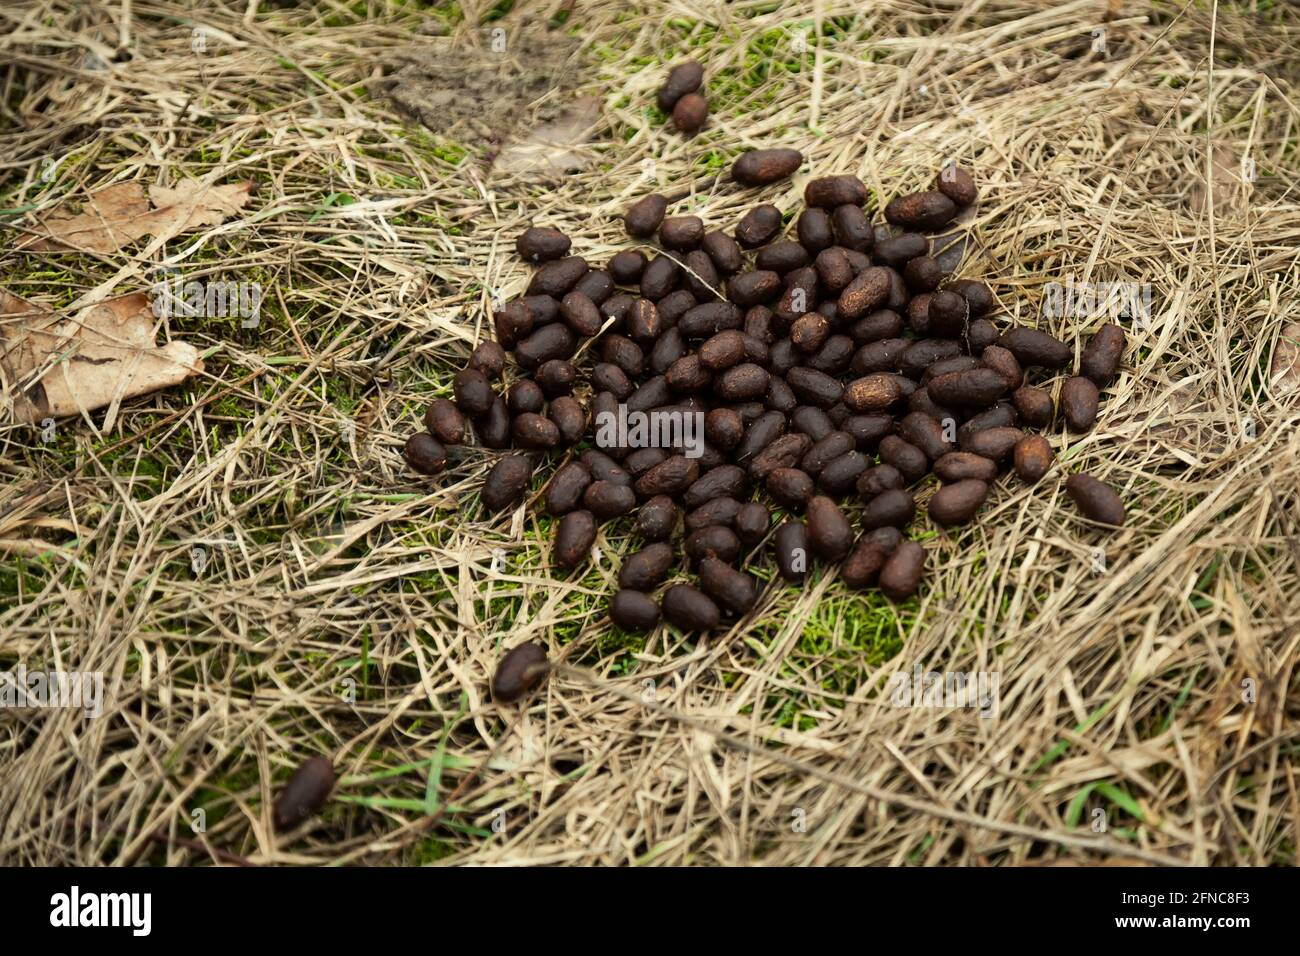Elk: (464, 193, 1116, 588)
